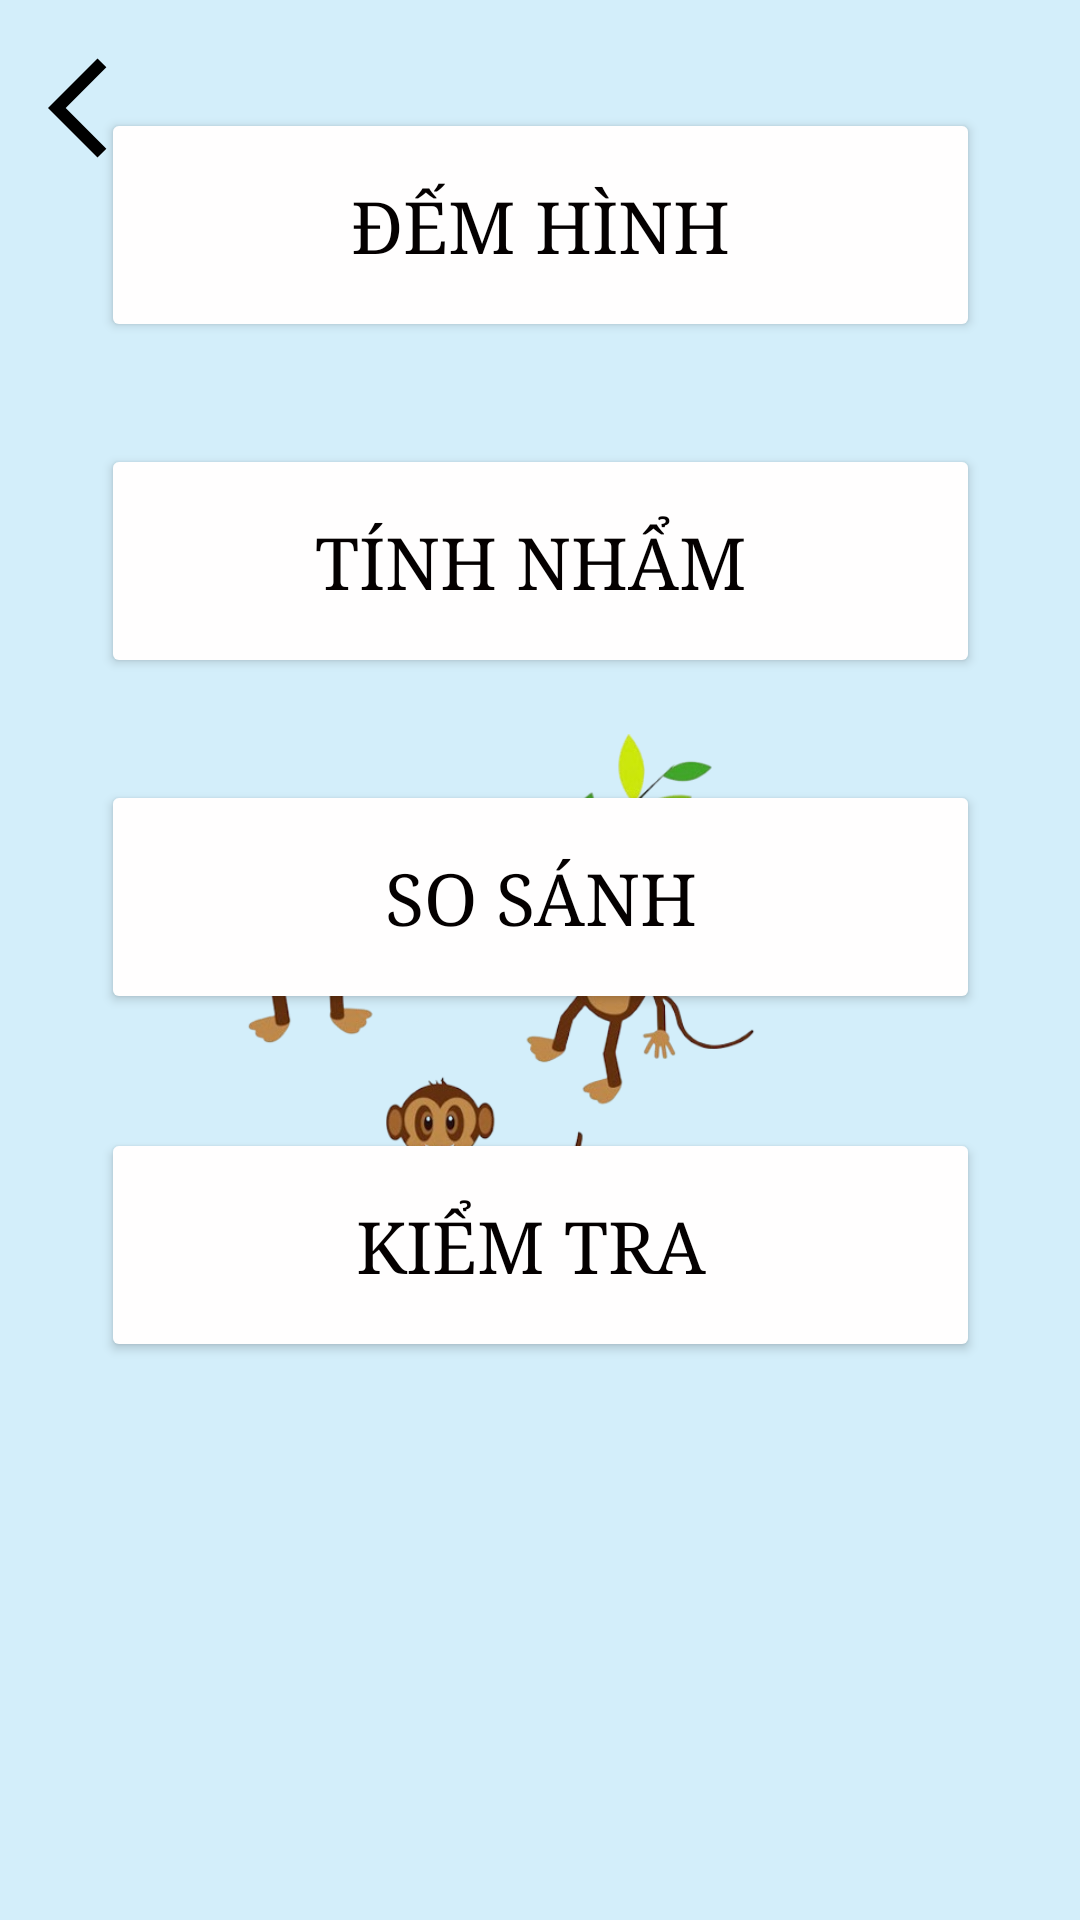

Locate icon controls on the screen. Image size 1080px×1920px, boxes as (x1, y1, x2, y2).
Quay lại: (48, 58, 168, 168)
